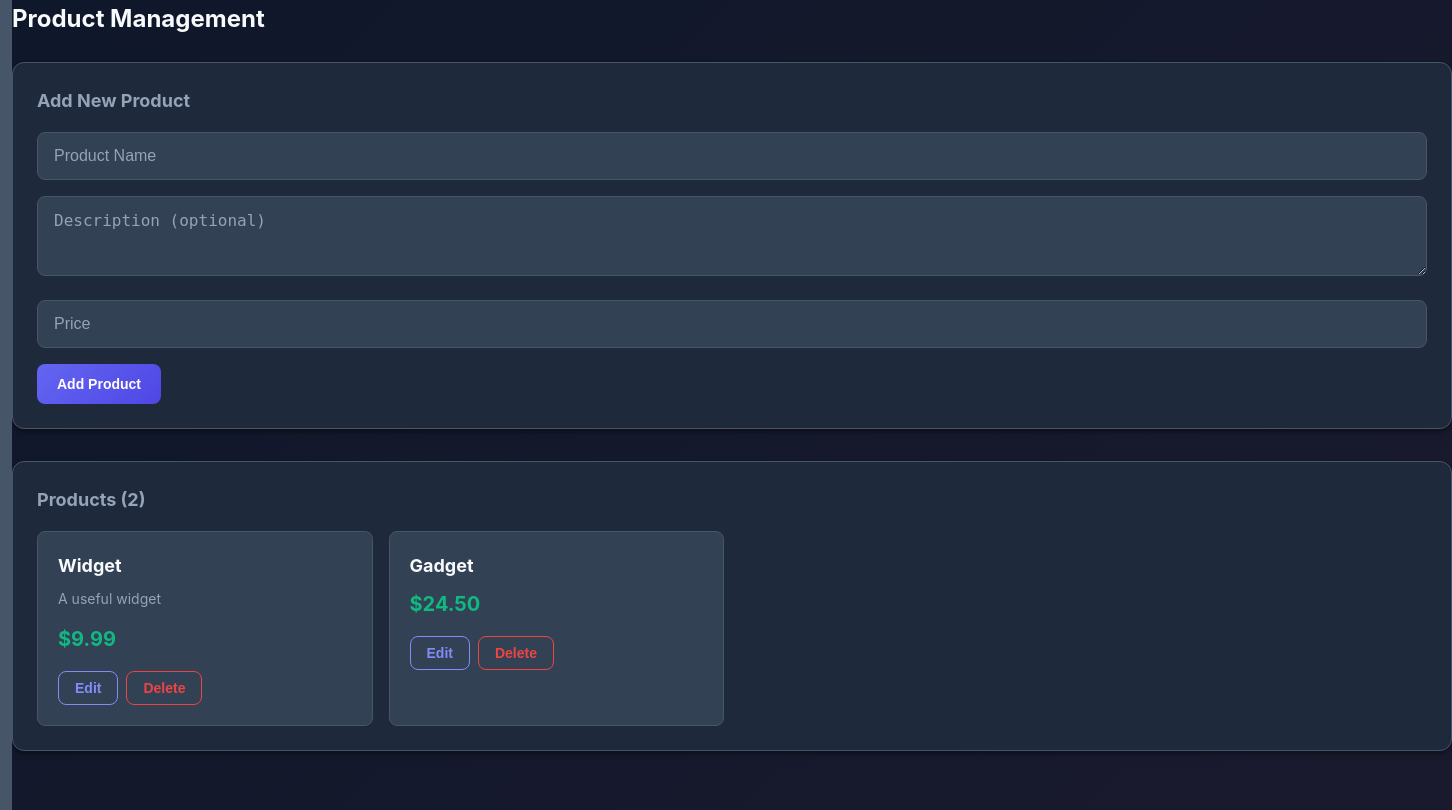
Test: ProductList › populates the form when Edit is clicked
Expected: the heading "Widget" is shown, [58,555,122,576]
Click the button "Edit" below "9.99" at (88, 688), box [58,671,118,705]
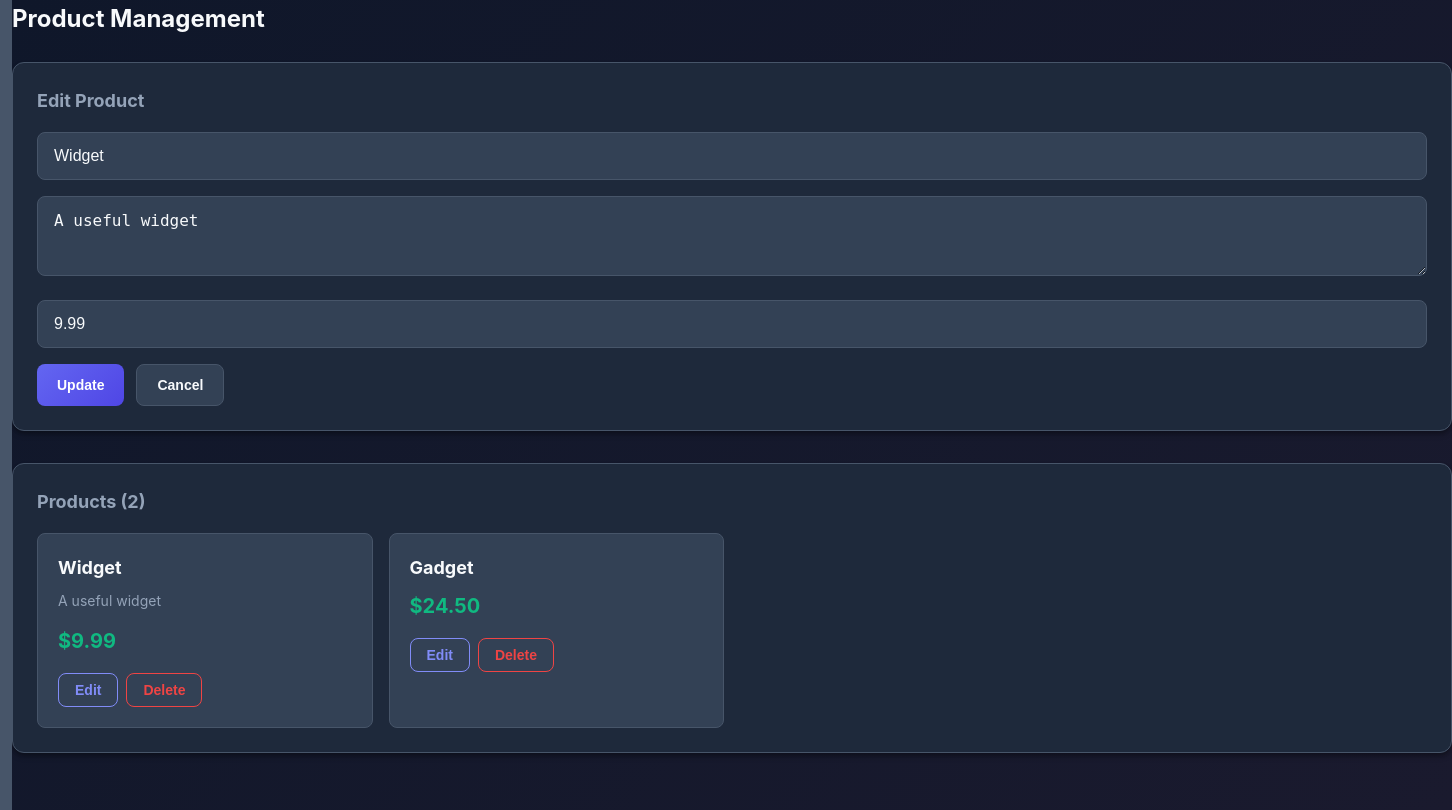
Expected: the heading "Edit Product" is shown, [37,90,144,111]
Expected: the field showing "Widget" is shown, [37,132,1427,180]
Expected: the text box showing "A useful widget" is shown, [37,196,1427,276]
